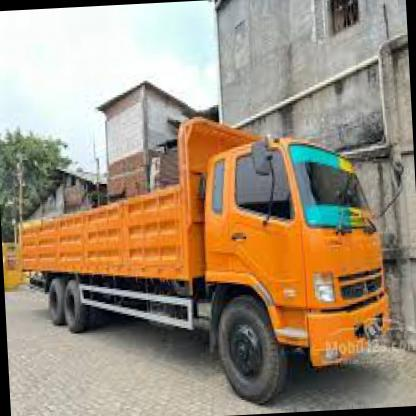truck: (201, 133, 401, 407)
